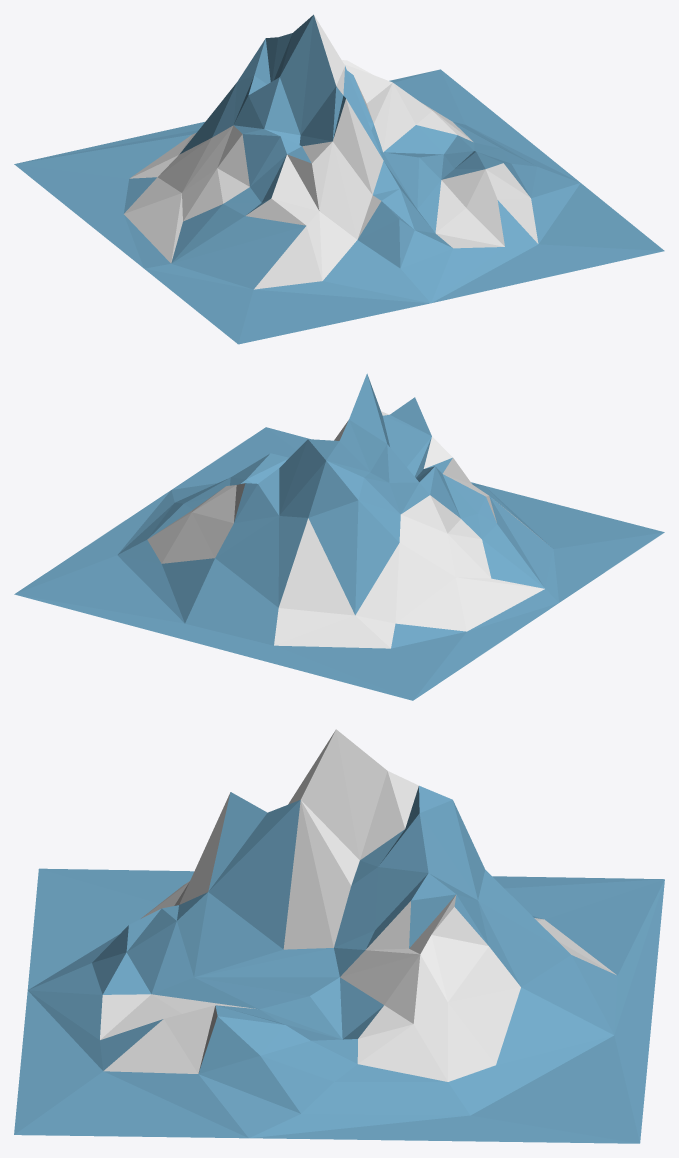
Rendered from mountain 4.fbx.
The picture shows the model from 3 angles, top to bottom: view 1: azimuth 30°, elevation 25°; view 2: azimuth 150°, elevation 25°; view 3: azimuth 270°, elevation 25°; orthographic projection. The views are drawn at different scales.
Parts seen in each view (by area): view 1: Landscape.007; view 2: Landscape.007; view 3: Landscape.007.
Part boxes in pixels (x1,y1,x2,y2): Landscape.007: (14,14,664,344); Landscape.007: (14,373,664,700); Landscape.007: (14,729,664,1143).
Size of the model in its own units: 91.12 by 40.49 by 91.12.
